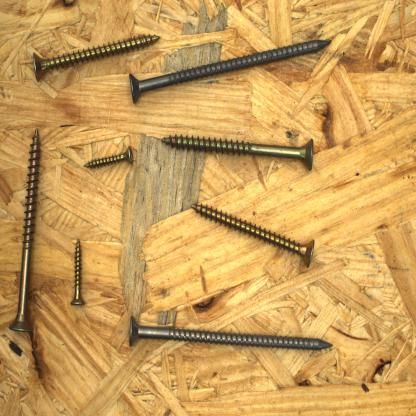screw: (127, 37, 336, 107), (187, 197, 319, 271), (7, 125, 43, 336), (31, 31, 162, 86), (158, 130, 320, 173), (80, 144, 138, 176), (68, 235, 87, 308)
